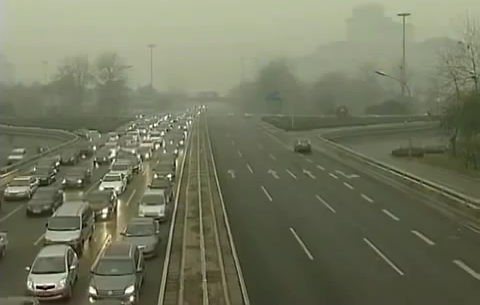car: (86, 239, 146, 305), (24, 243, 81, 301), (43, 200, 96, 255), (118, 216, 162, 260), (25, 186, 64, 216), (80, 188, 116, 220), (136, 188, 169, 222), (4, 174, 39, 199), (61, 166, 92, 189), (98, 172, 127, 196), (147, 178, 173, 203), (30, 163, 55, 186), (109, 158, 132, 181), (6, 146, 29, 167), (36, 155, 60, 175), (152, 160, 175, 180), (59, 145, 81, 165), (93, 146, 111, 164), (294, 137, 313, 153)
